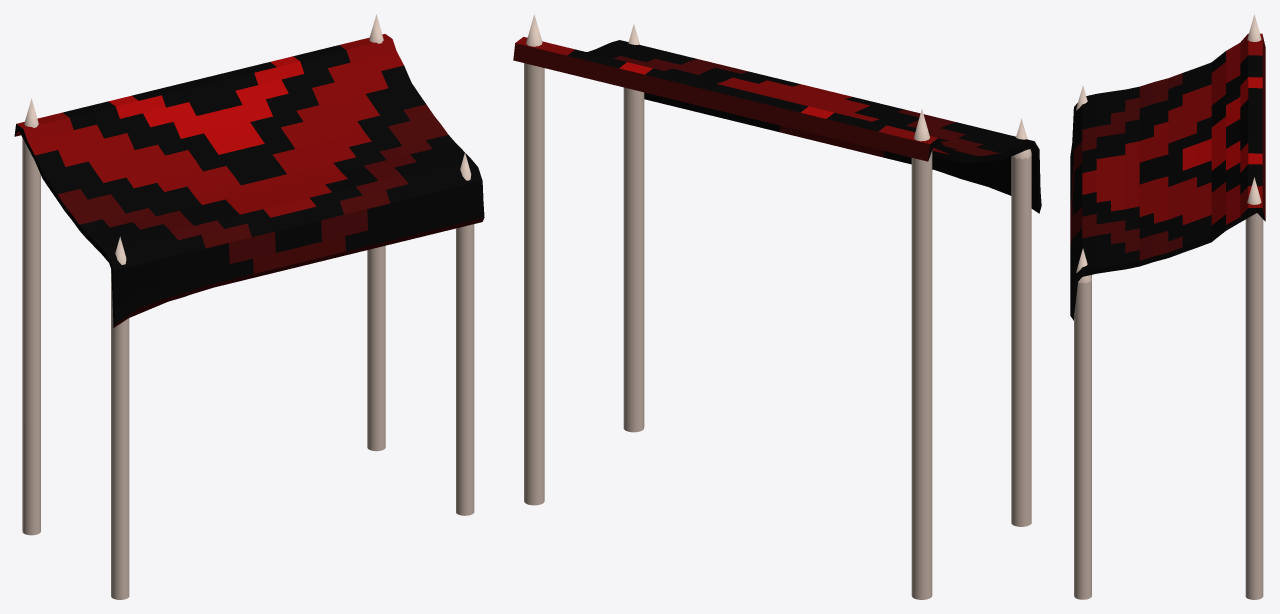
File: StallOfAngristV1.fbx
3 views of the same model, side by side, from view 1: azimuth 30°, elevation 25°; view 2: azimuth 150°, elevation 25°; view 3: azimuth 270°, elevation 25° (orthographic). The views are drawn at different scales.
Parts seen in each view (by area): view 1: pCube1, pCylinder4, pCylinder2, pCylinder1, pCylinder3; view 2: pCube1, pCylinder4, pCylinder3, pCylinder1, pCylinder2; view 3: pCube1, pCylinder3, pCylinder2.
Boxes of the visible parts, x1,y1,x2,y2 form: pCube1: [14, 34, 484, 327]; pCylinder4: [22, 98, 40, 535]; pCylinder2: [456, 152, 474, 515]; pCylinder1: [111, 236, 129, 599]; pCylinder3: [367, 14, 385, 451]; pCube1: [513, 37, 1041, 213]; pCylinder4: [911, 109, 932, 599]; pCylinder3: [524, 14, 544, 505]; pCylinder1: [1011, 118, 1031, 526]; pCylinder2: [623, 24, 644, 432]; pCube1: [1070, 33, 1265, 320]; pCylinder3: [1245, 177, 1263, 599]; pCylinder2: [1074, 248, 1091, 599].
Bounding box in the file's own units: 4.28 × 4.8 × 2.03.
